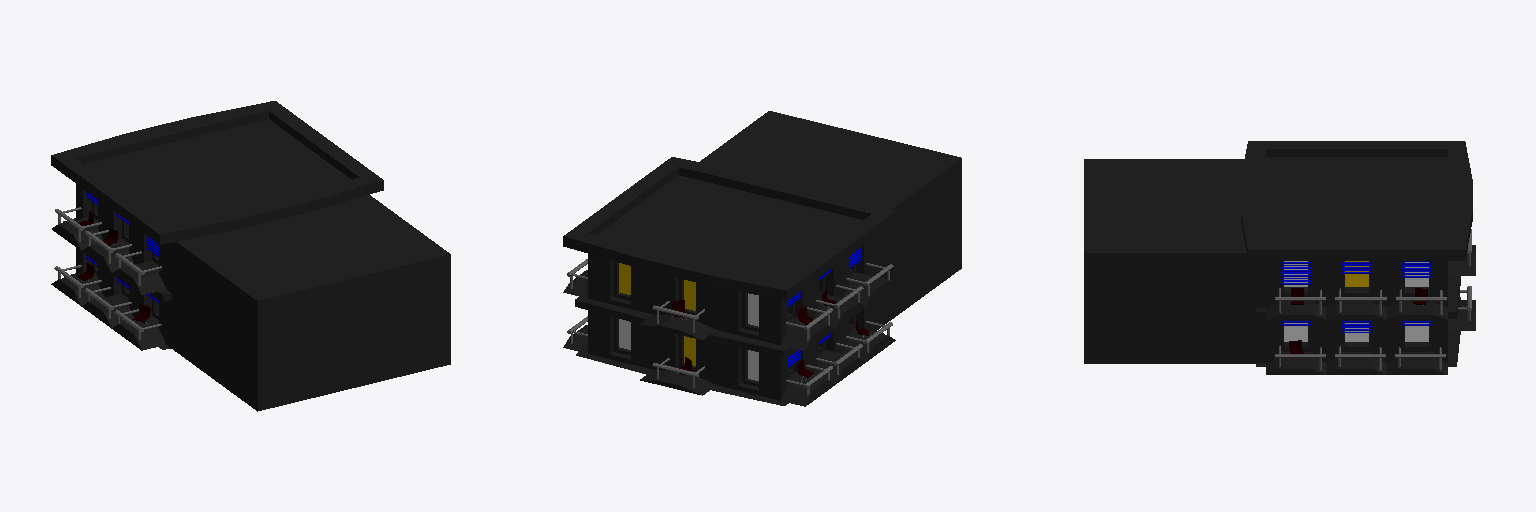
File: stackable-balcony.obj
3 views of the same model, side by side, from view 1: azimuth 30°, elevation 25°; view 2: azimuth 150°, elevation 25°; view 3: azimuth 270°, elevation 25° (orthographic).
Visible parts, largest first — view 1: ApartmentBuildingBack.001_Cube.073, Cube.045_Cube.072, Cylinder.008_Cylinder.032; view 2: Cube.045_Cube.072, ApartmentBuildingBack.001_Cube.073, Cylinder.008_Cylinder.032; view 3: Cube.045_Cube.072, ApartmentBuildingBack.001_Cube.073, Cylinder.009_Cylinder.033.
Boxes of the visible parts, <box> form: ApartmentBuildingBack.001_Cube.073: <box>167,195,450,411</box>; Cube.045_Cube.072: <box>51,101,383,350</box>; Cylinder.008_Cylinder.032: <box>54,207,161,339</box>; Cube.045_Cube.072: <box>563,157,895,406</box>; ApartmentBuildingBack.001_Cube.073: <box>700,111,961,331</box>; Cylinder.008_Cylinder.032: <box>786,263,893,395</box>; Cube.045_Cube.072: <box>1241,141,1475,374</box>; ApartmentBuildingBack.001_Cube.073: <box>1084,159,1265,363</box>; Cylinder.009_Cylinder.033: <box>1275,288,1446,370</box>.
Size of the model in its own units: 14.62 by 6.95 by 20.47.